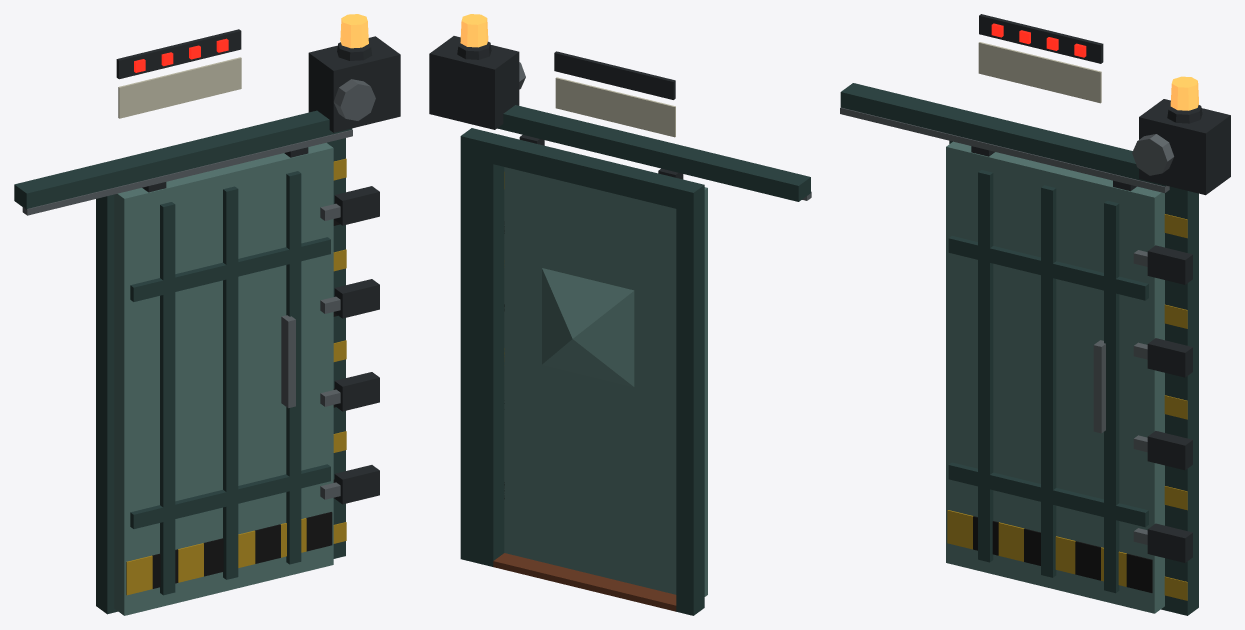
Rendered from basement_door.glb.
3 renders of one model, left to right at view 1: azimuth 30°, elevation 25°; view 2: azimuth 150°, elevation 25°; view 3: azimuth 330°, elevation 25°, orthographic. The views are drawn at different scales.
Visible parts, largest first — view 1: door_leaf, door_frame, door_track, door_motor, basement_door, door_label, lock_lamps, beacon_lens; view 2: door_leaf, door_frame, leaf_dent, door_track, door_motor, door_label, lock_lamps, beacon_lens; view 3: door_leaf, door_frame, door_track, door_motor, basement_door, door_label, lock_lamps, beacon_lens.
Boxes of the visible parts, x1,y1,x2,y2 form: door_leaf: (114,142,333,615); door_frame: (96,138,346,614); door_track: (14,110,352,215); door_motor: (308,36,400,132); basement_door: (334,186,379,504); door_label: (118,57,241,118); lock_lamps: (116,29,241,79); beacon_lens: (340,14,368,48); door_leaf: (504,135,707,596); door_frame: (460,128,704,615); leaf_dent: (542,268,634,386); door_track: (497,105,811,201); door_motor: (429,36,525,129); door_label: (555,77,675,137); lock_lamps: (554,51,675,99); beacon_lens: (460,14,488,47); door_leaf: (946,141,1164,613); door_frame: (949,140,1198,615); door_track: (840,83,1169,193); door_motor: (1132,99,1230,195); basement_door: (1147,245,1192,562); door_label: (978,42,1101,103); lock_lamps: (979,14,1103,63); beacon_lens: (1170,76,1198,110).
Size of the model in its own units: 1.87 by 2.63 by 0.36.
